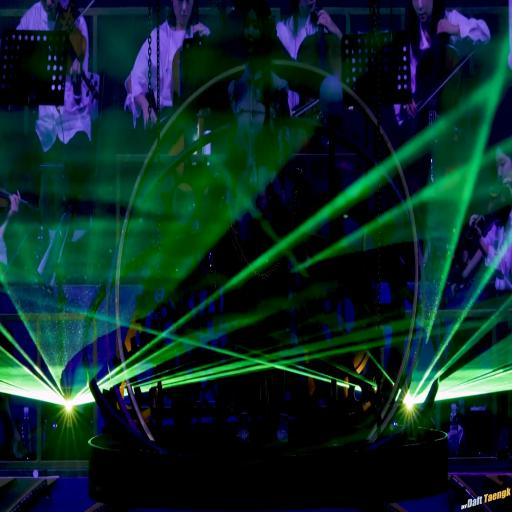IU: (244, 0, 272, 61)
